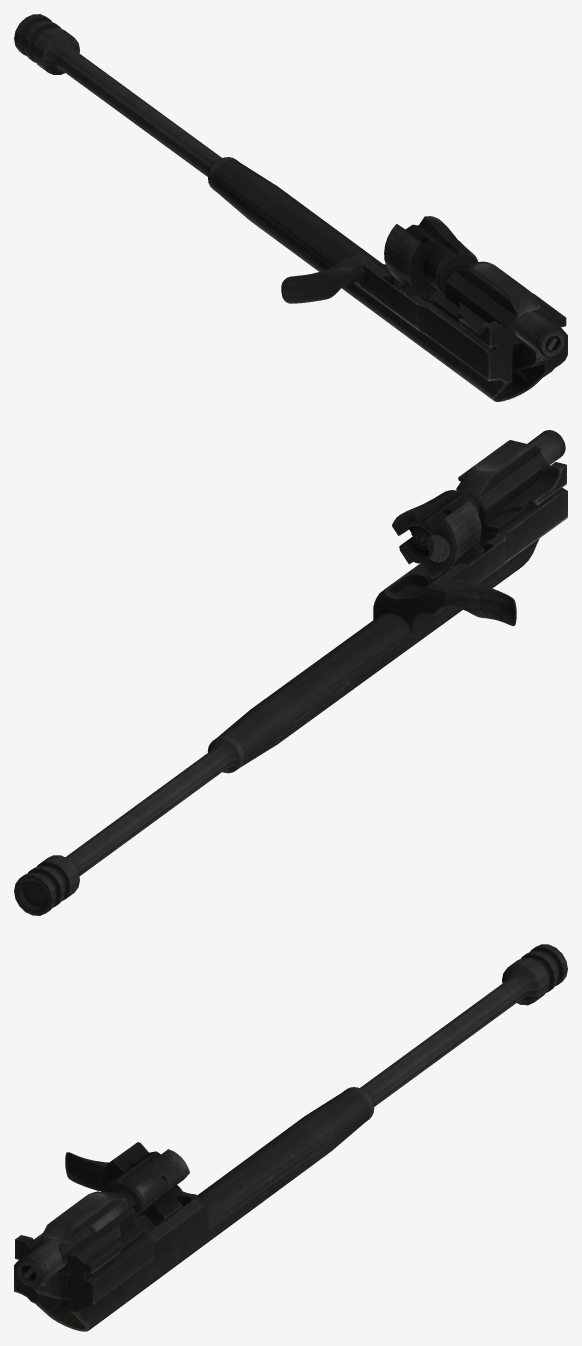
The picture shows the model from 3 angles, top to bottom: view 1: azimuth 30°, elevation 25°; view 2: azimuth 150°, elevation 25°; view 3: azimuth 330°, elevation 25°; orthographic projection.
Parts seen in each view (by area): view 1: TW_674d6121c09f69dfb201a888_PZ_Import; view 2: TW_674d6121c09f69dfb201a888_PZ_Import; view 3: TW_674d6121c09f69dfb201a888_PZ_Import.
Boxes of the visible parts, box(x1,y1,x2,y2) form: TW_674d6121c09f69dfb201a888_PZ_Import: box(14, 14, 567, 401); TW_674d6121c09f69dfb201a888_PZ_Import: box(14, 430, 567, 915); TW_674d6121c09f69dfb201a888_PZ_Import: box(14, 944, 567, 1331).
Bounding box in the file's own units: 0.034 × 0.195 × 0.0252.
Materials: 1 (1 with a texture image).
